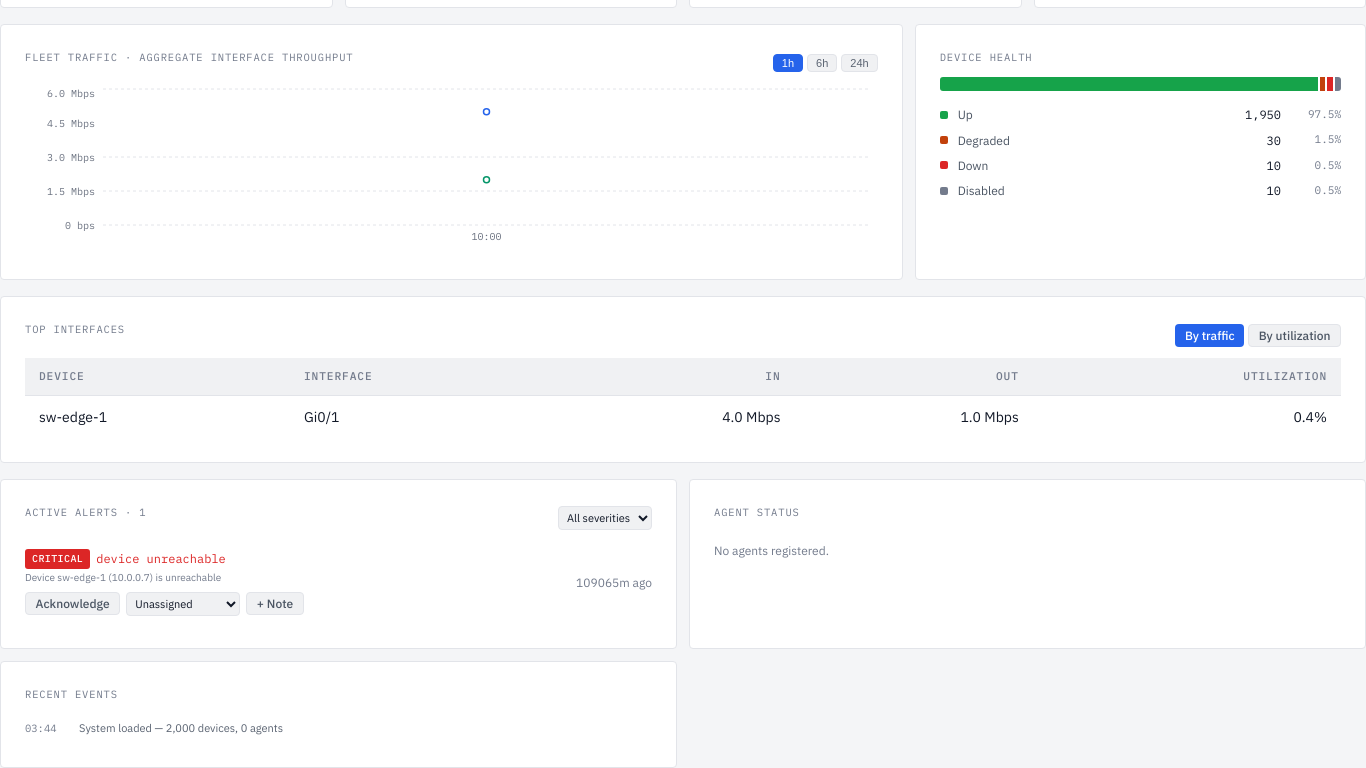
Test case: editor can acknowledge an alert and the row updates
(page scrolled)
What coordinates should you click on to do the following:
click the button "Acknowledge"
I would click on:
 (73, 604)
Its box is x1=25 y1=592 x2=120 y2=615.
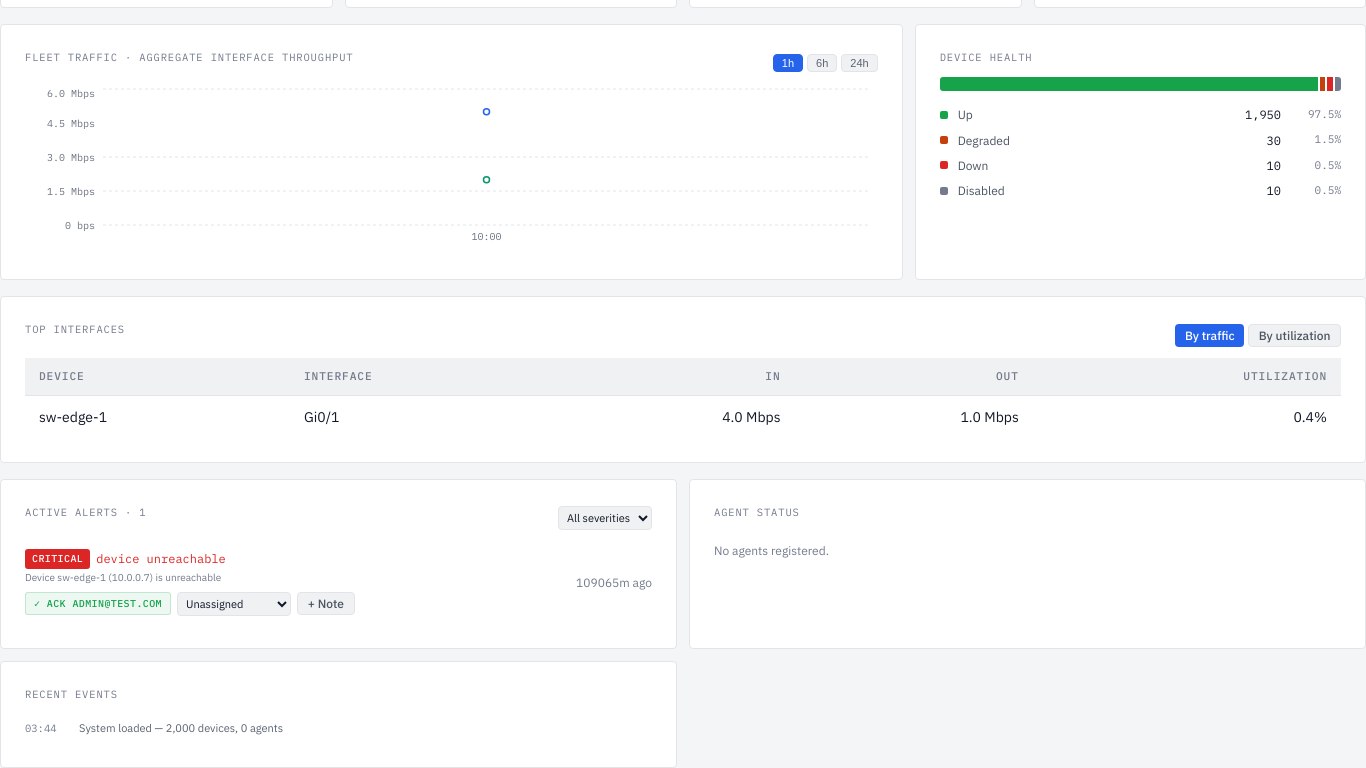
Expected: the button "acknowledge" is not shown
Now the text "✓ ack admin@test.com" is shown, box x1=25 y1=592 x2=171 y2=615
